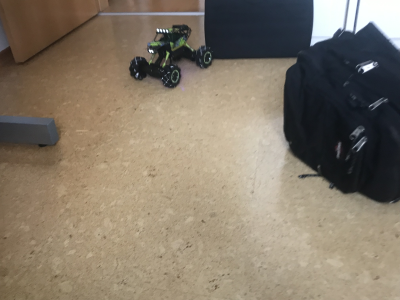remote control car: (128, 22, 214, 88)
